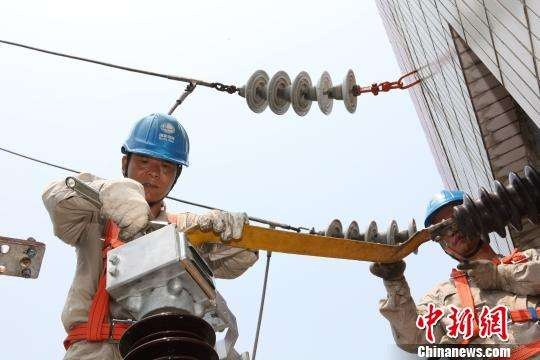blue: (118, 112, 189, 203), (423, 189, 489, 265)
